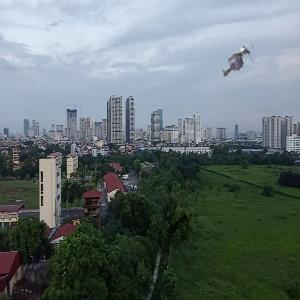drone: (208, 33, 262, 87)
